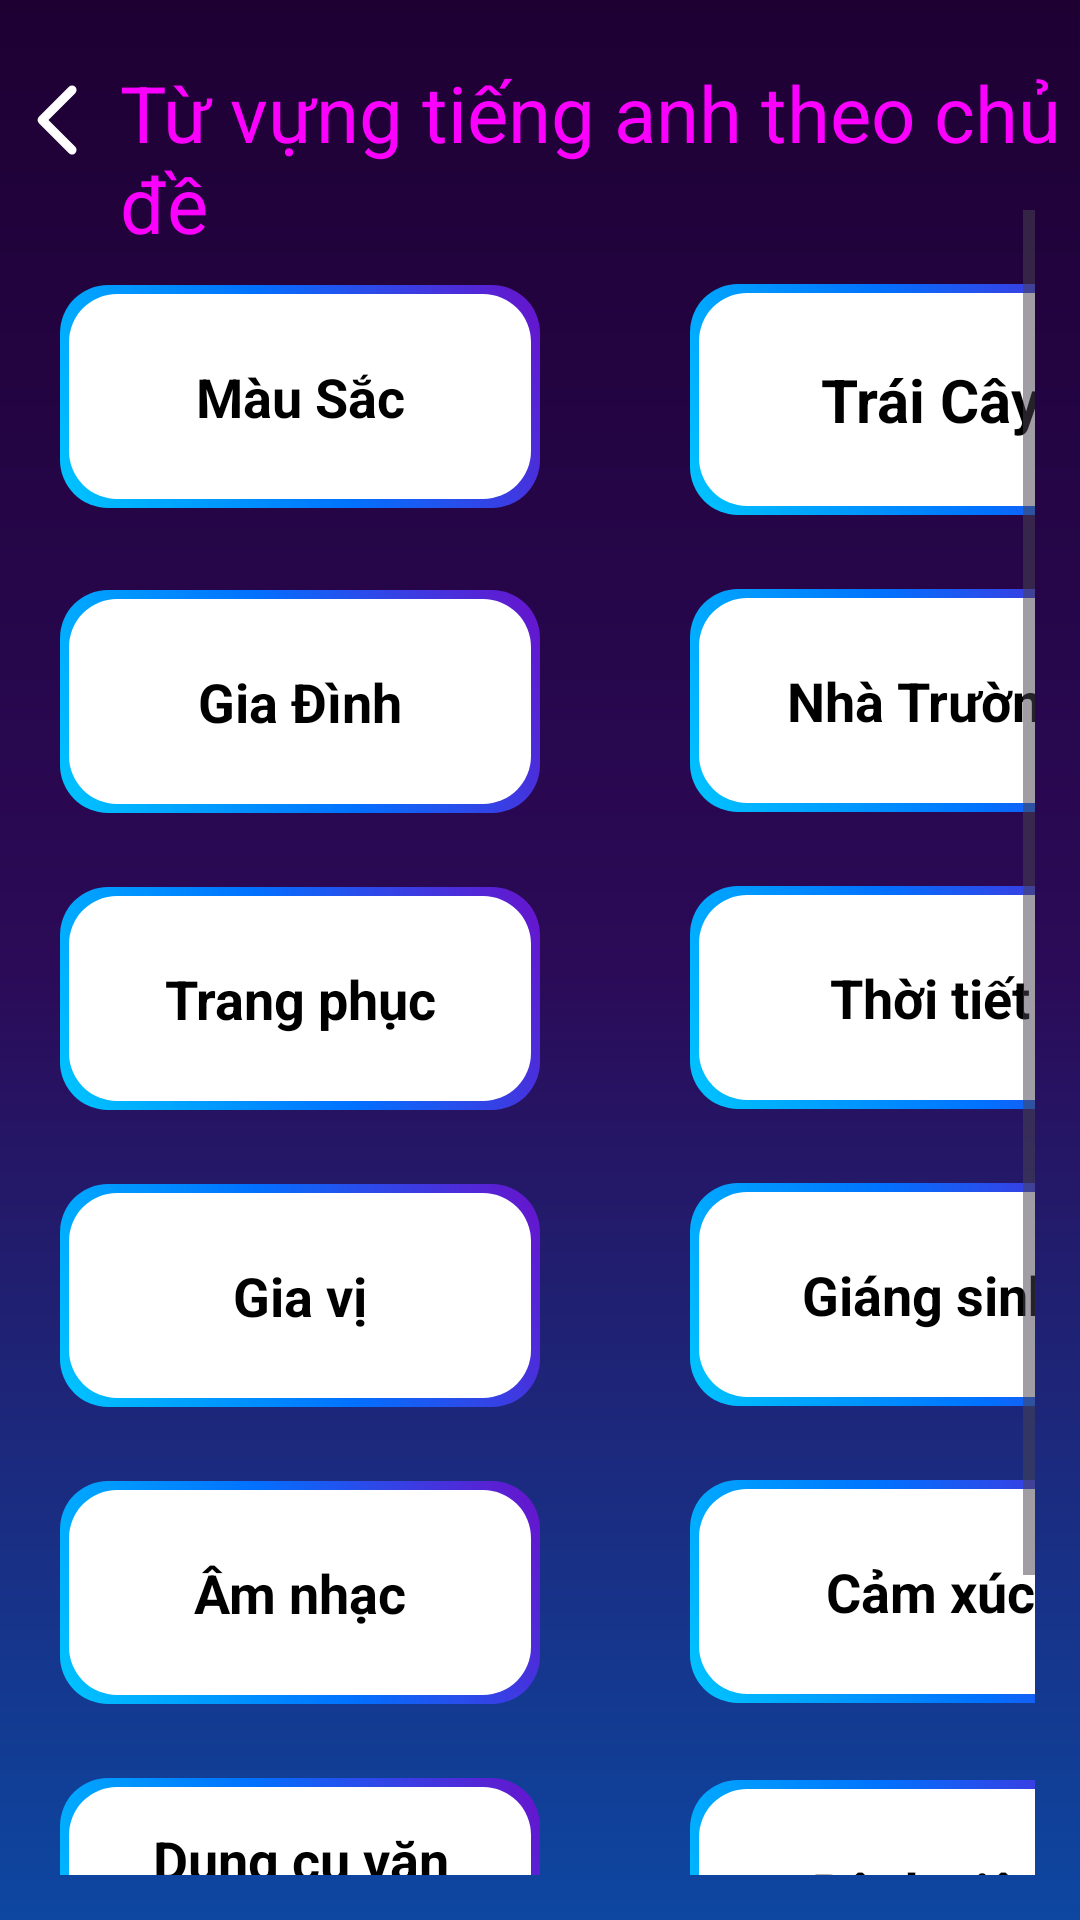

Locate icon controls on the screen. Image size 1080*1920, boxes as (x1, y1, x2, y2).
angle left full: (37, 85, 77, 155)
